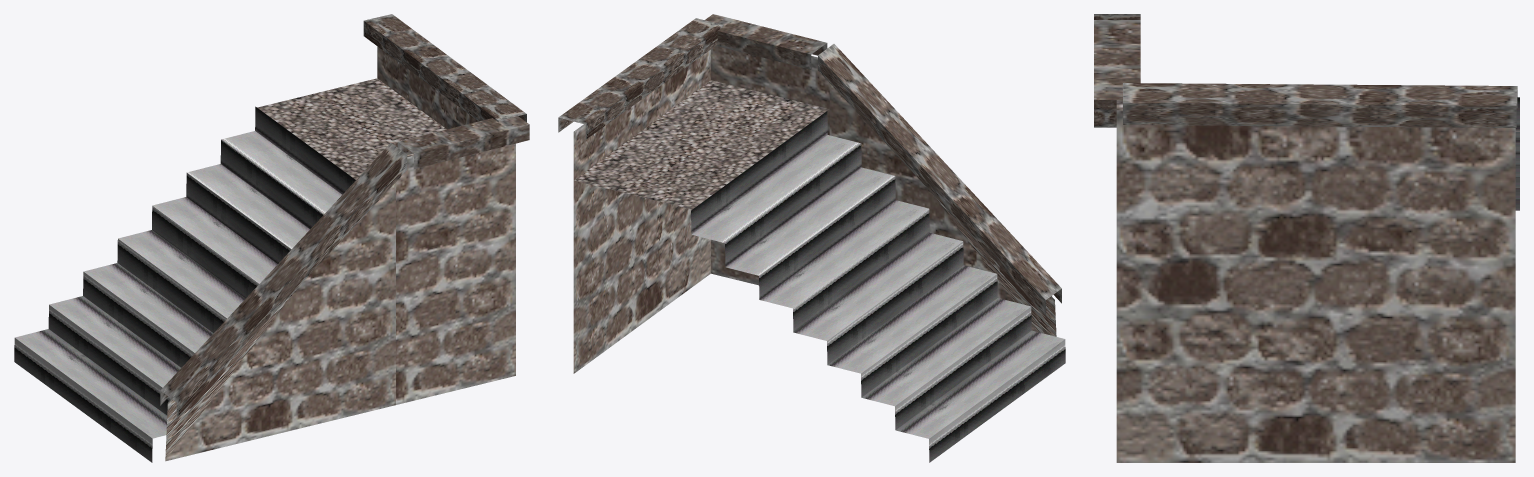
File: treppe[stone)_2813.glb
3 views of the same model, side by side, from view 1: azimuth 30°, elevation 25°; view 2: azimuth 150°, elevation 25°; view 3: azimuth 270°, elevation 25° (orthographic). The views are drawn at different scales.
Visible parts, largest first — view 1: pPlaneShape178, pPlaneShape175, pPlaneShape176, pCylinderShape33, pPlaneShape2, pCylinderShape35, pCylinderShape34, pPlaneShape177; view 2: pPlaneShape178, pPlaneShape177, pPlaneShape2, pCylinderShape33, pPlaneShape175, pCylinderShape35, pPlaneShape176, pCylinderShape34; view 3: pPlaneShape177, pCylinderShape35, pCylinderShape34, pCylinderShape33, pPlaneShape178.
Part boxes in pixels (bbox=[...]): pPlaneShape178: bbox=[14, 106, 355, 462]; pPlaneShape175: bbox=[165, 182, 395, 461]; pPlaneShape176: bbox=[396, 143, 515, 404]; pCylinderShape33: bbox=[160, 143, 407, 417]; pPlaneShape2: bbox=[257, 78, 446, 179]; pCylinderShape35: bbox=[363, 14, 526, 122]; pCylinderShape34: bbox=[397, 116, 529, 168]; pPlaneShape177: bbox=[377, 46, 478, 129]; pPlaneShape178: bbox=[691, 111, 1065, 462]; pPlaneShape177: bbox=[573, 49, 710, 373]; pPlaneShape2: bbox=[574, 80, 829, 209]; pCylinderShape33: bbox=[818, 44, 1061, 314]; pPlaneShape175: bbox=[829, 83, 1056, 336]; pCylinderShape35: bbox=[558, 18, 723, 139]; pPlaneShape176: bbox=[711, 46, 829, 285]; pCylinderShape34: bbox=[705, 14, 827, 69]; pPlaneShape177: bbox=[1116, 110, 1515, 462]; pCylinderShape35: bbox=[1123, 83, 1517, 127]; pCylinderShape34: bbox=[1094, 20, 1140, 99]; pCylinderShape33: bbox=[1094, 14, 1140, 127]; pPlaneShape178: bbox=[1515, 97, 1519, 210].
Size of the model in its own units: 0.7832 by 0.5121 by 0.534.
Materials: 8 (8 with a texture image).
